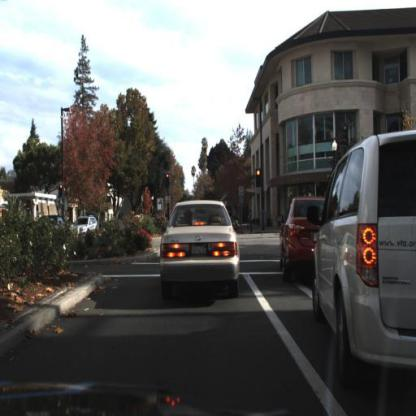car: (307, 134, 415, 386), (158, 198, 243, 304), (276, 191, 323, 296), (35, 211, 71, 239), (73, 215, 100, 241)
pedestrian: (246, 208, 256, 239), (249, 209, 254, 234)
trafficLight-Red: (58, 183, 65, 201), (257, 170, 262, 191), (166, 175, 171, 189)
